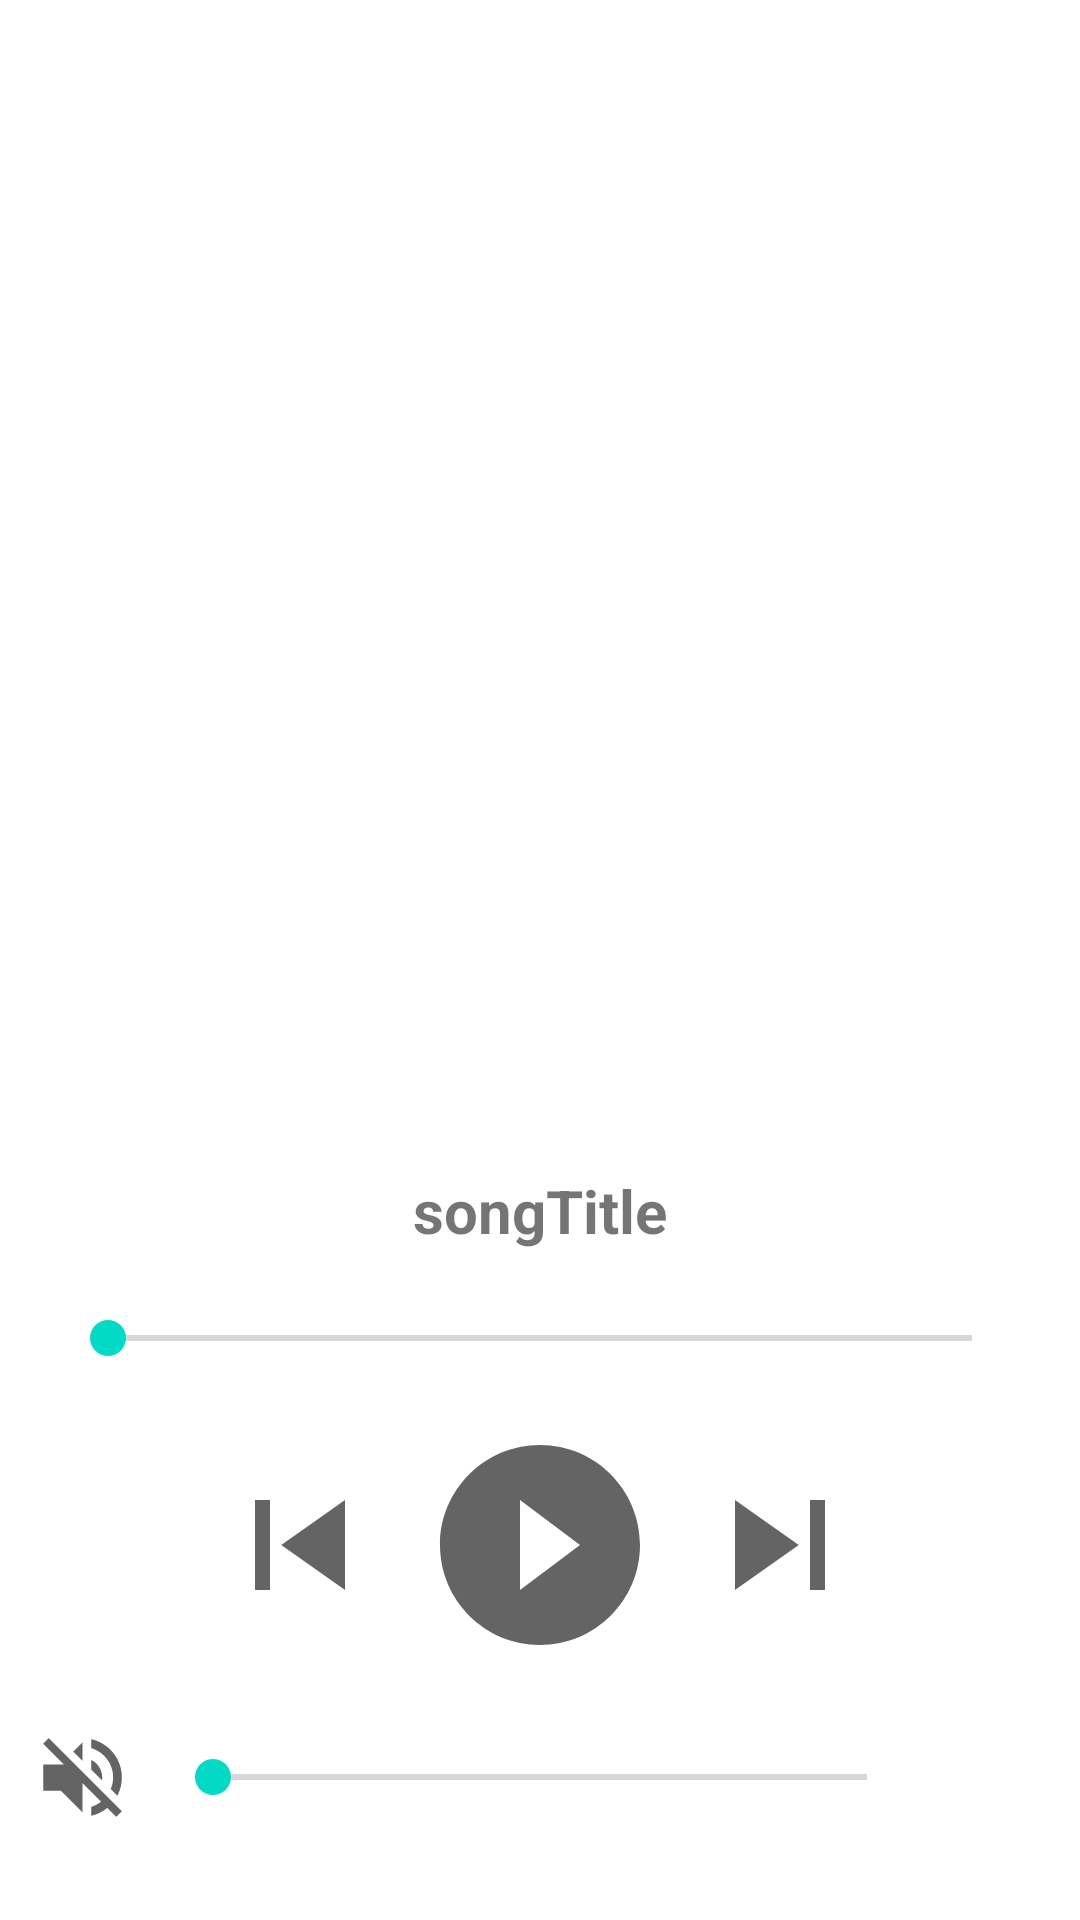

Point at icon controls on the screen. Image size 1080*1920, points as (x,y).
next: (780,1545)
play: (540,1545)
pre: (300,1545)
